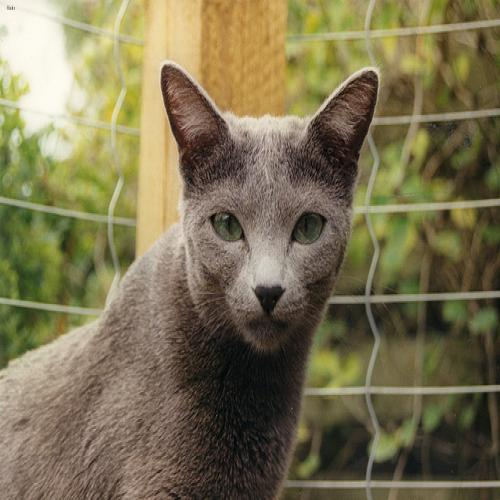rblue: (160, 49, 387, 370)
